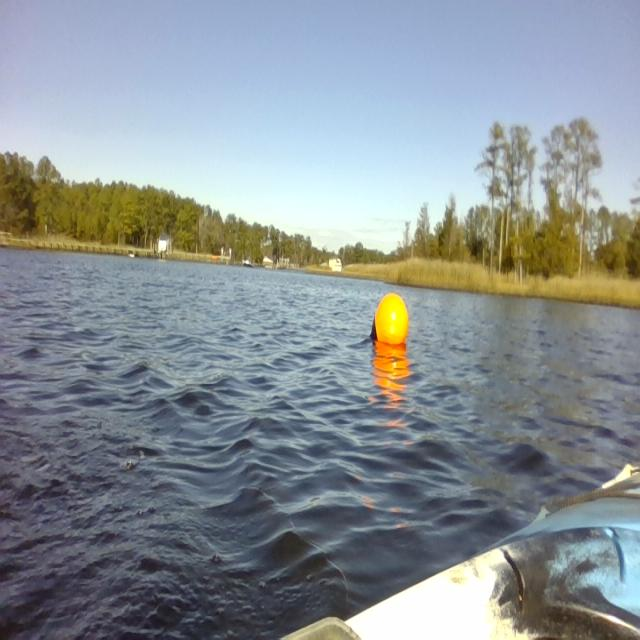Buoy: (362, 287, 417, 353)
